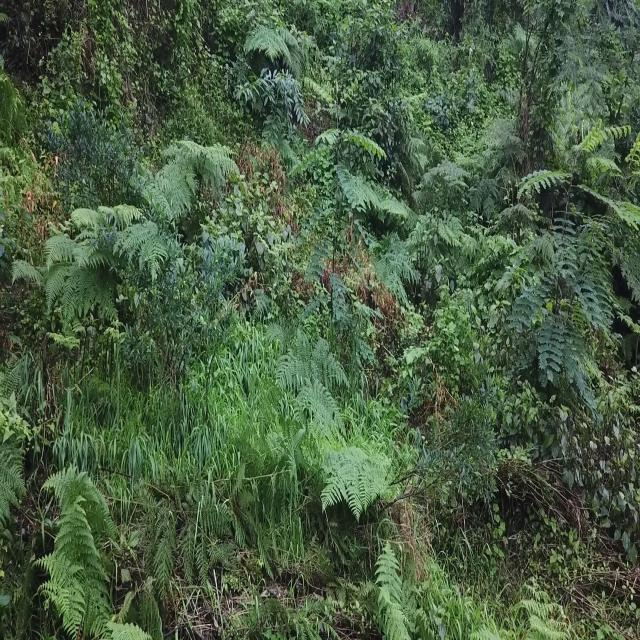Mysore-Thorn-Weed: (511, 99, 638, 402), (291, 45, 395, 363)
